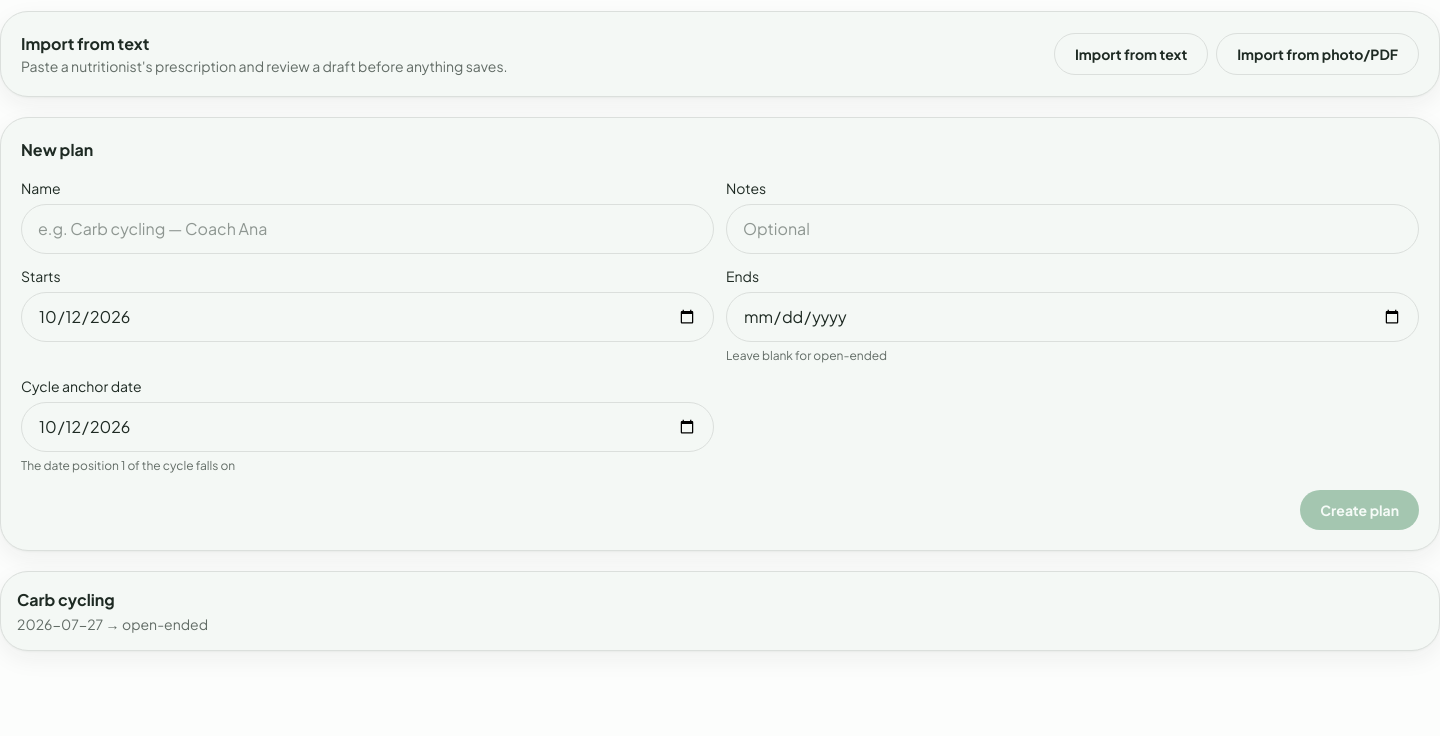
Slot options › shows "no matches" when the catalog search returns nothing
Click the text "Carb cycling" at (66, 599), box [17,588,115,610]
(page scrolled)
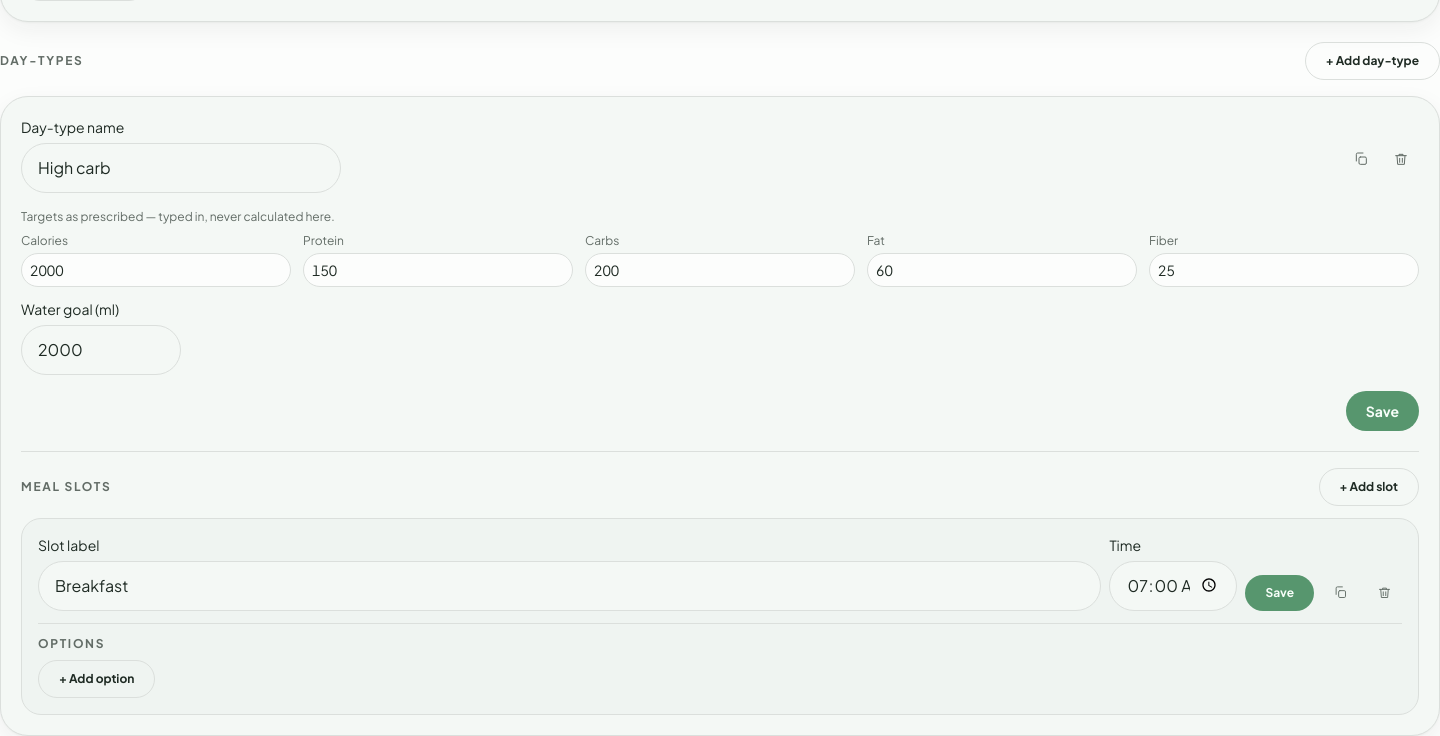
Click the button "+ Add option" at (97, 678), box [38,660,155,698]
(page scrolled)
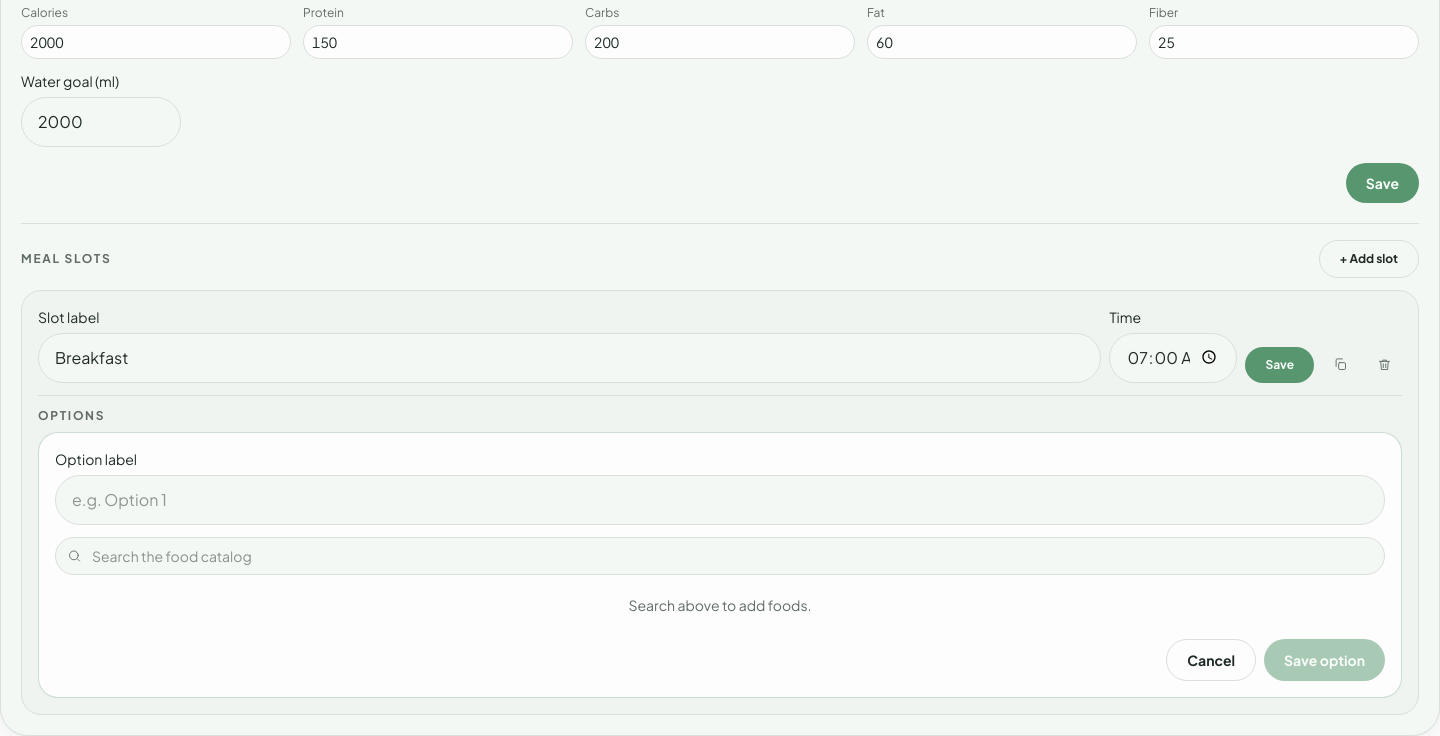
Type "zzz" into the field with placeholder "Search the food catalog" at (720, 556), box [55,536,1385,574]
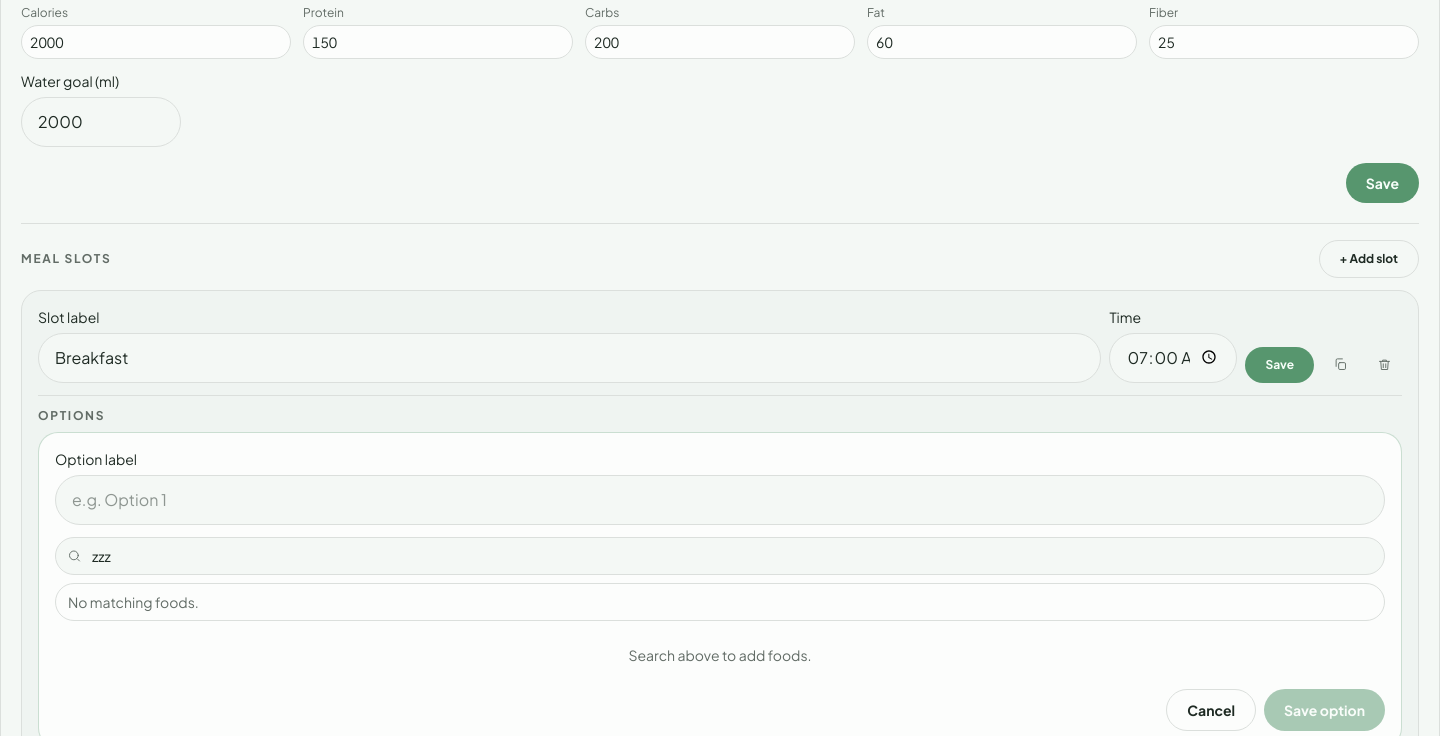
Expected: the list item "No matching foods." is shown, [68,592,199,610]
